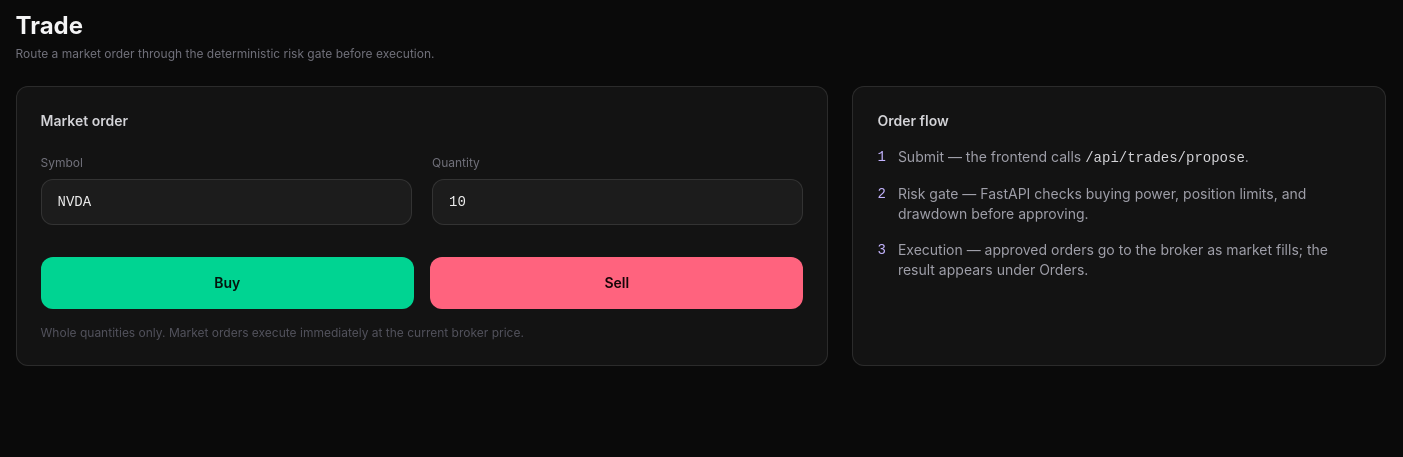
Trade page › shows validation errors for a bad ticker and bad quantity
This screenshot has width=1403, height=457.
Type "AAPL!" into the field labelled "Symbol" at point(226, 202), box [40,178,412,224]
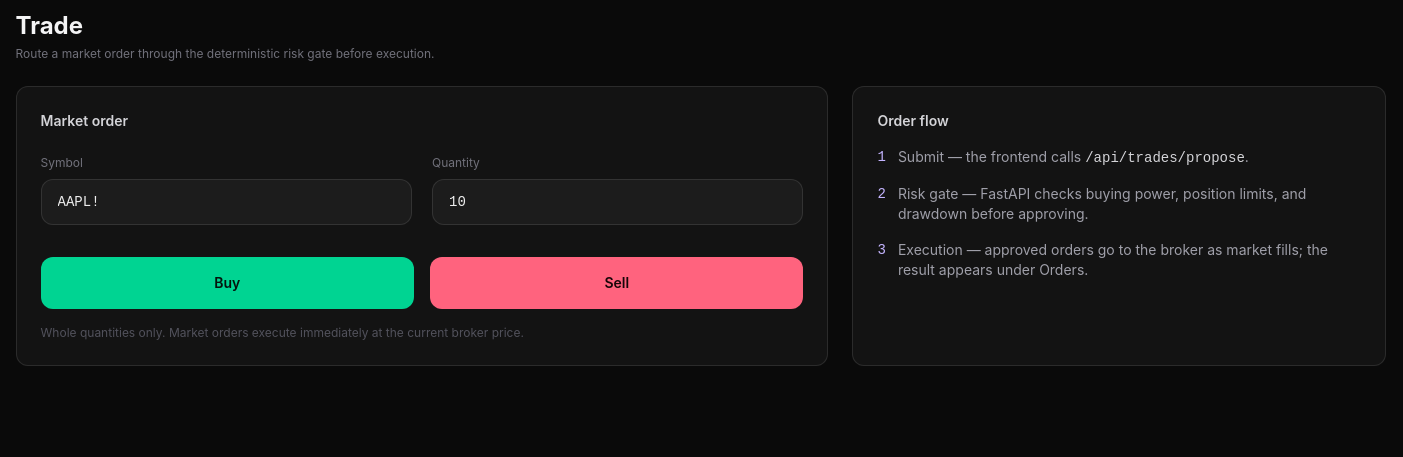
Click the button "Buy" at point(227, 282), box [40,256,414,308]
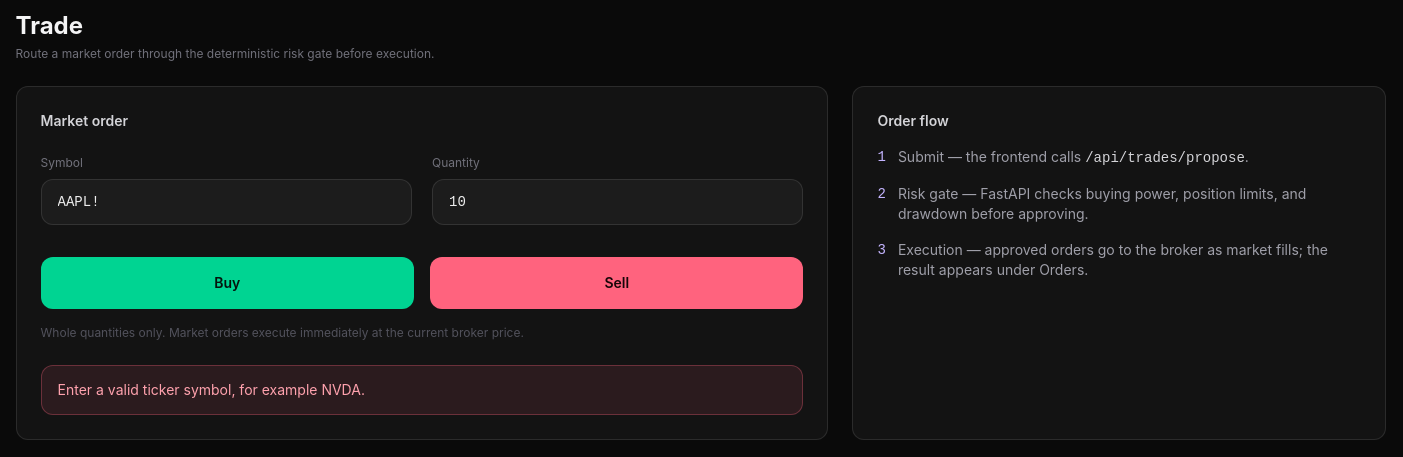
Expected: the text "Enter a valid ticker symbol, for example NVDA." is shown, [40,364,803,414]
Replace the text in the field labelled "Symbol" with "NVDA" at point(226, 202), box [40,178,412,224]
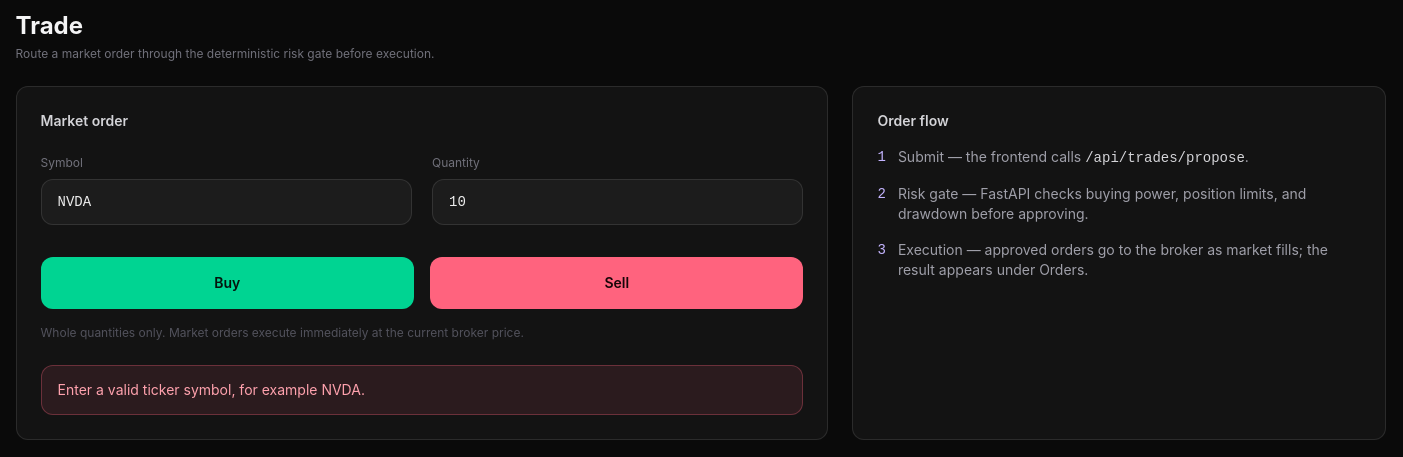
Type "0" into the field labelled "Quantity" at point(618, 202), box [432,178,804,224]
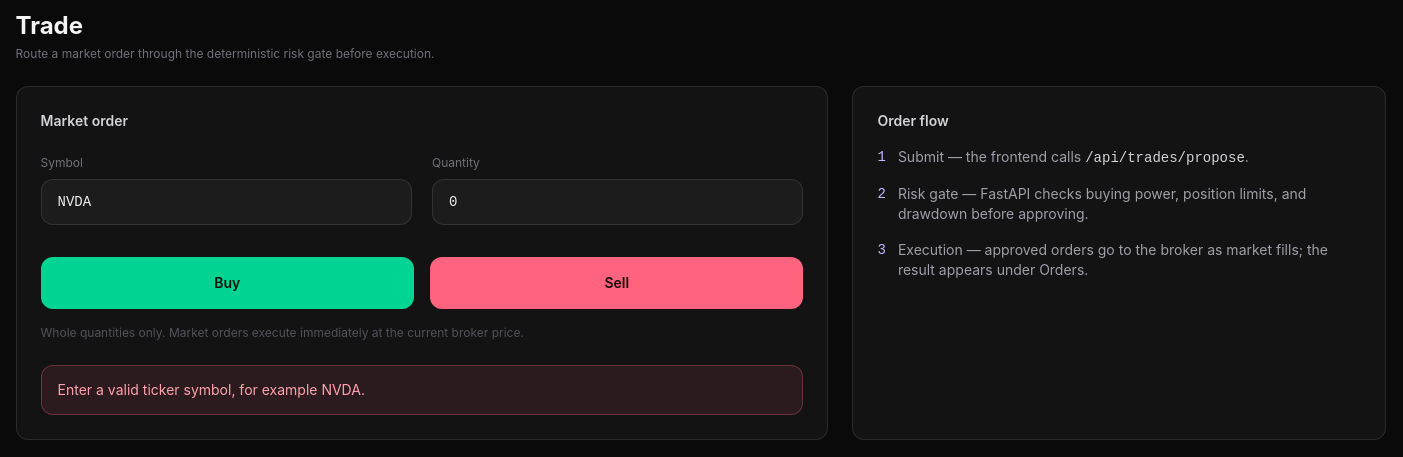
Click the button "Sell" at point(617, 282), box [430,256,804,308]
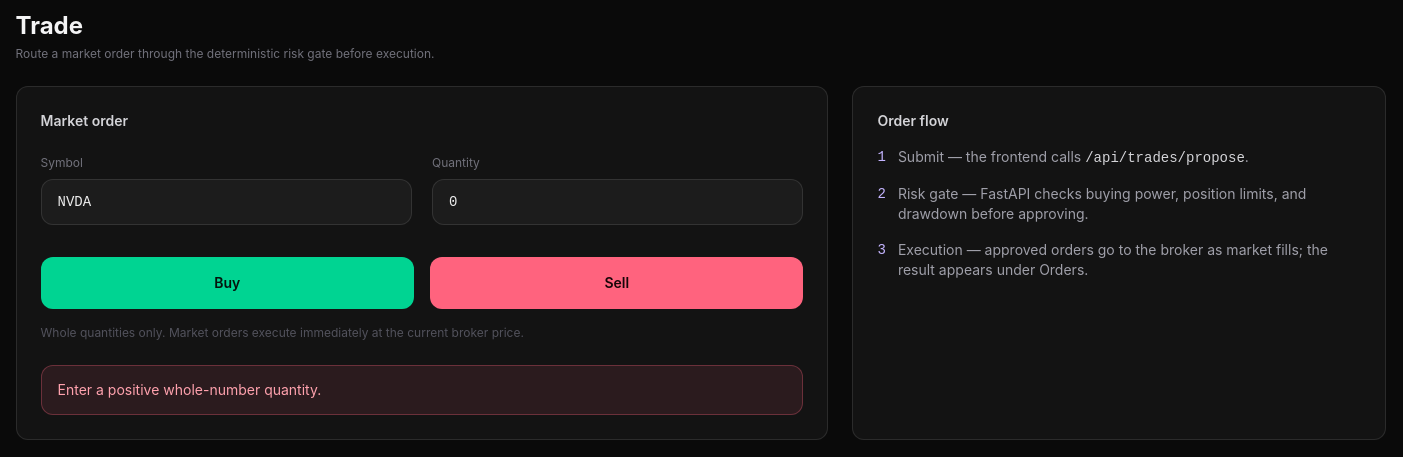
Expected: the text "Enter a positive whole-number quantity." is shown, [40,364,803,414]
